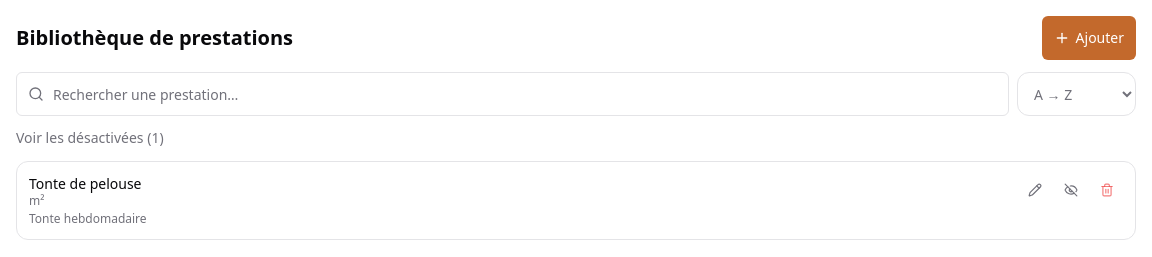
ServicesPage — vue inactive › cliquer sur "Voir les désactivées" affiche la prestation inactive
This screenshot has width=1152, height=257.
Click the button "Voir les désactivées (1)": coordinates (90, 138) [16, 128, 164, 148]
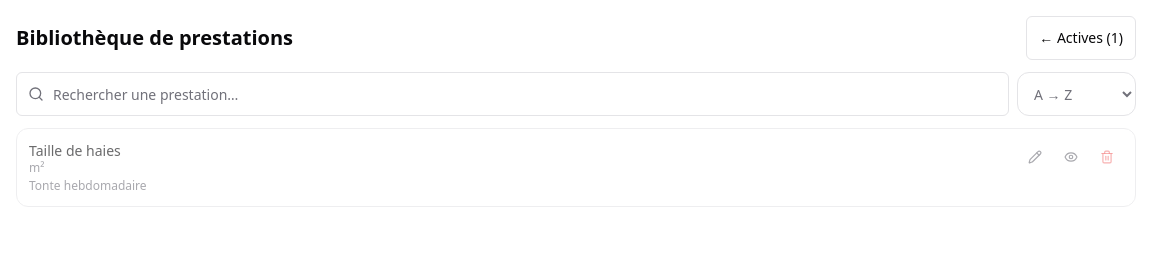
Now the text "Taille de haies" is shown, box [29, 141, 121, 160]
